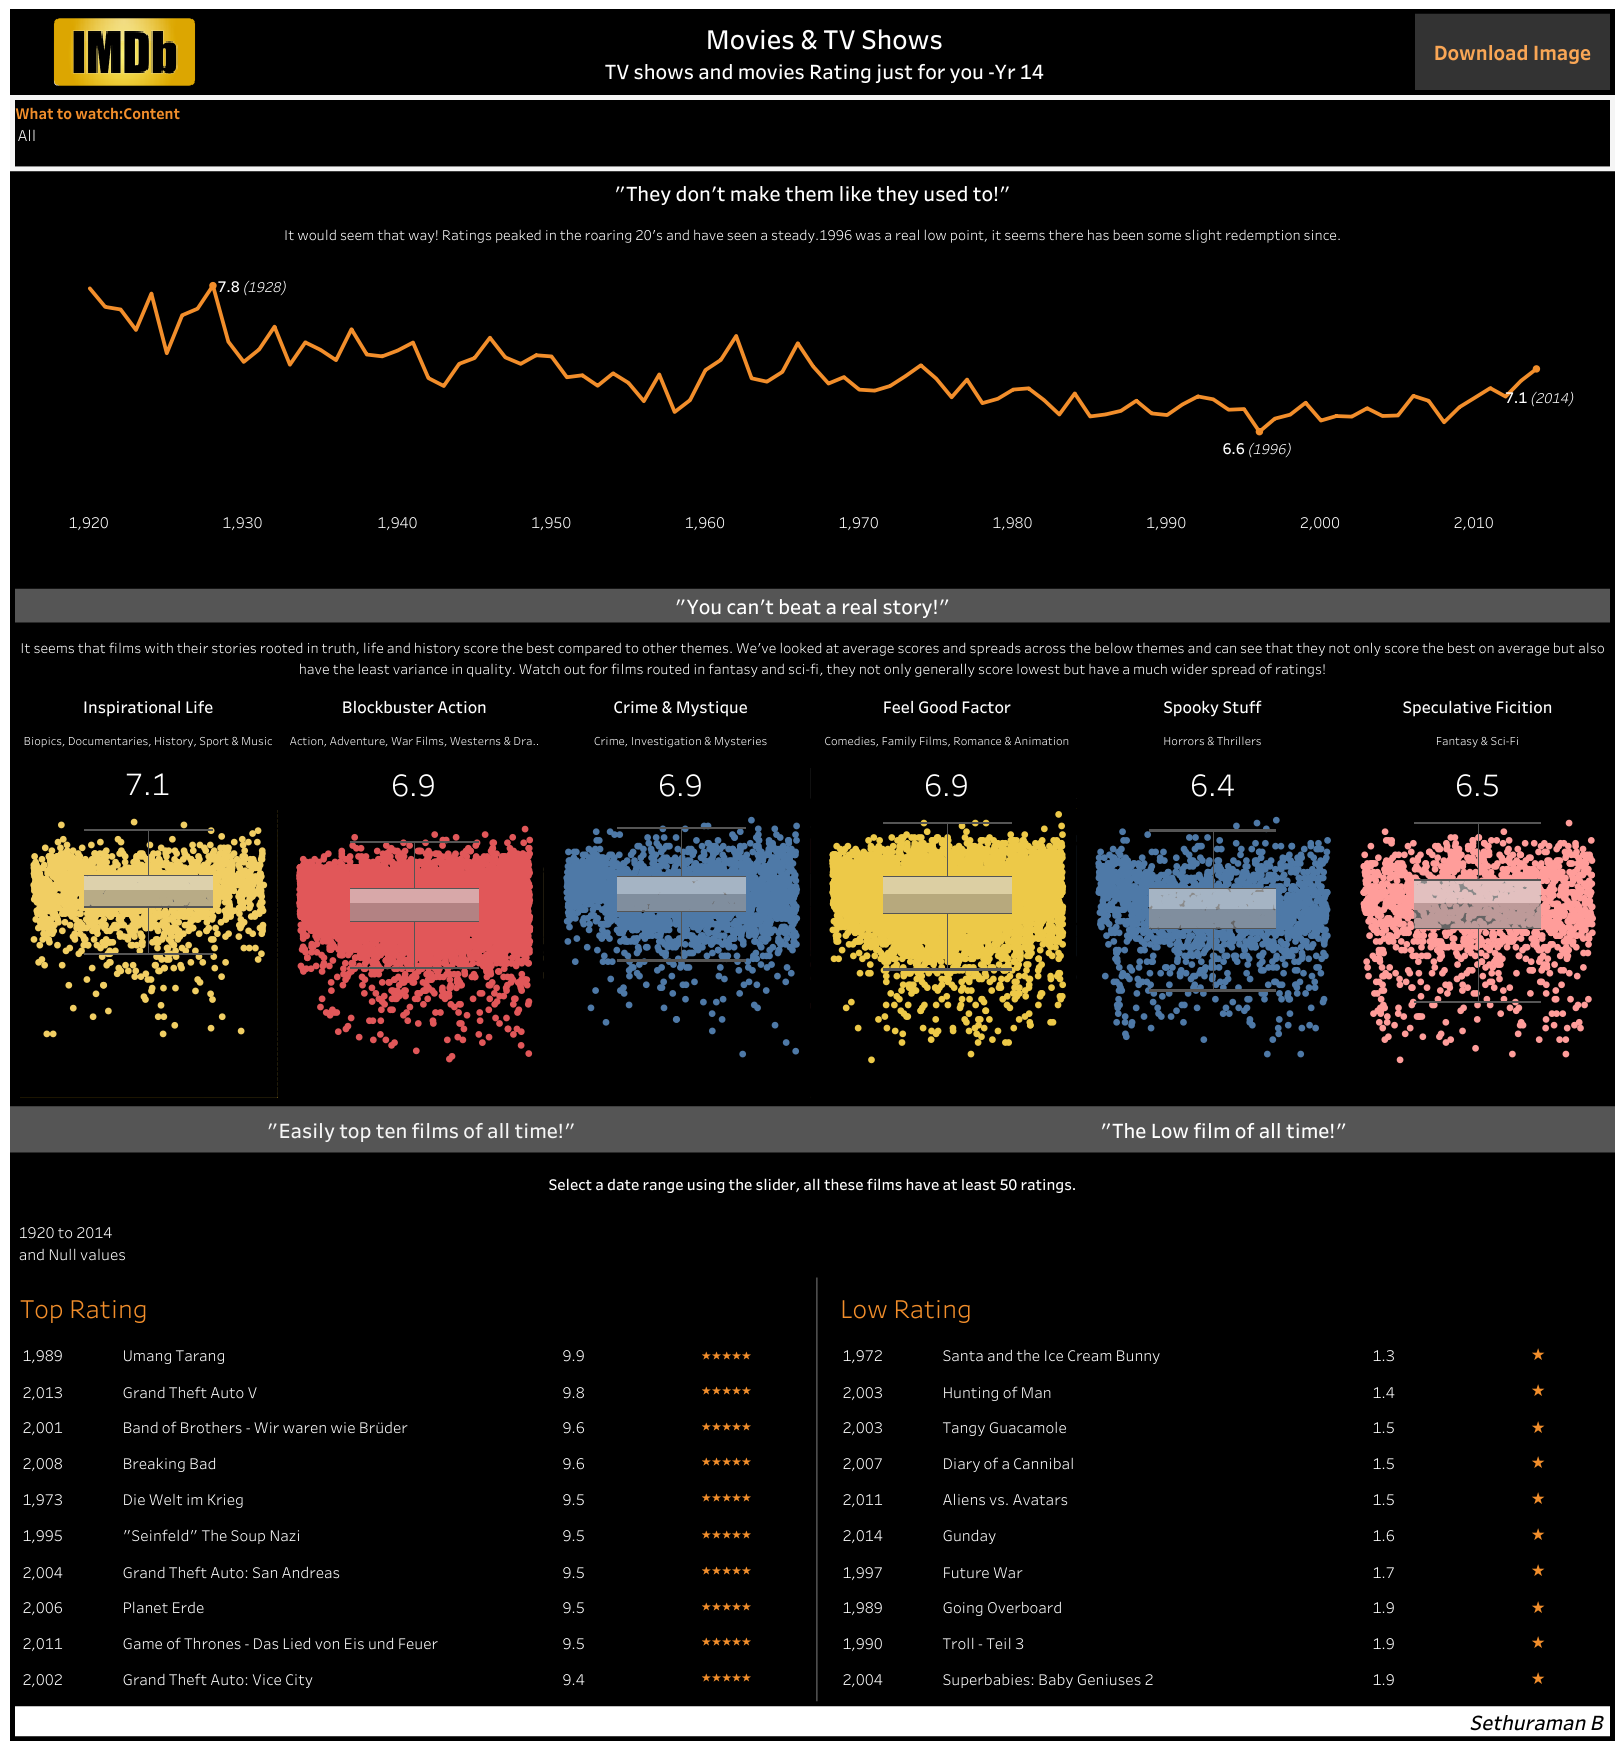

The page's visual inventory and layout, read from the dashboard file:
{"tool":"tableau","page":{"name":"Dashboard","canvas":[1300,1400],"ordinal":0},"visuals":[{"type":"image","param":"Image/imdb-logo.png","box":[8,7,183,69]},{"type":"text","box":[191,7,937,69]},{"type":"dashboard-object","box":[1128,7,164,69]},{"type":"filter","title":"Over Time","param":"[federated.14471671s8h7x11cjdxfd0hvwhka].[none:Type (copy)_1684346304384864259:n","box":[8,76,1284,61]},{"type":"text","box":[8,137,1284,34]},{"type":"text","box":[8,171,1284,32]},{"type":"worksheet","title":"Over Time","mark":"Line","rows":["imdbRating"],"cols":["year"],"box":[8,203,1284,232]},{"type":"blank","box":[8,435,1284,32]},{"type":"text","box":[8,467,1284,35]},{"type":"text","box":[8,502,1284,47]},{"type":"text","box":[12,553,213,22]},{"type":"text","box":[225,553,213,22]},{"type":"text","box":[438,553,213,22]},{"type":"text","box":[651,553,213,22]},{"type":"text","box":[864,553,212,22]},{"type":"text","box":[1076,553,212,22]},{"type":"text","box":[12,575,213,34.5]},{"type":"text","box":[225,575,213,34.9]},{"type":"text","box":[438,575,213,34.9]},{"type":"text","box":[651,575,213,34.9]},{"type":"text","box":[864,575,212,34.9]},{"type":"text","box":[1076,575,212,34.9]},{"type":"worksheet","title":"Factual Average","mark":"Text","box":[12,609.5,213,34.5]},{"type":"worksheet","title":"BlockBuster Average","mark":"Text","box":[225,609.9,213,32]},{"type":"worksheet","title":"Crime_Mystery Average","mark":"Text","box":[438,609.9,213,32]},{"type":"worksheet","title":"Feel Good Average","mark":"Text","box":[651,609.9,213,32]},{"type":"worksheet","title":"Thriller Average","mark":"Text","box":[864,609.9,212,32]},{"type":"worksheet","title":"SciFi_Fantasy Average","mark":"Text","box":[1076,609.9,212,32]},{"type":"worksheet","title":"Crime_Mystery Box","mark":"Line","rows":["imdbRating"],"box":[438,641.9,213,239.1]},{"type":"worksheet","title":"Feel Good Plot","mark":"Line","rows":["imdbRating"],"box":[651,641.9,213,239.1]},{"type":"worksheet","title":"Thriller Box","mark":"Line","rows":["imdbRating"],"box":[864,641.9,212,239.1]},{"type":"worksheet","title":"Fantasy Plot","mark":"Line","rows":["imdbRating"],"box":[1076,641.9,212,239.1]},{"type":"worksheet","title":"Factual Box","mark":"Line","rows":["imdbRating"],"box":[12,643.9,213,237.1]},{"type":"worksheet","title":"BlockBuster Plot","mark":"Line","rows":["imdbRating"],"box":[225,654.2,213,226.8]},{"type":"text","box":[8,885,658,37]},{"type":"text","box":[666,885,626,37]},{"type":"text","box":[8,922,1284,50]},{"type":"filter","title":"Top Rating","param":"[federated.14471671s8h7x11cjdxfd0hvwhka].[none:Year (copy):qk]","box":[8,972,1284,50]},{"type":"worksheet","title":"Top Rating","mark":"Shape","rows":["Calculation_1858016389975830530","year","Calculation_3082713945223172097","imdbRating"],"box":[8,1022,635.5,339]},{"type":"blank","box":[643.5,1022,10,339]},{"type":"blank","box":[654.5,1022,10,339]},{"type":"worksheet","title":"Low Rating","mark":"Shape","rows":["Calculation_1858016389975830530","year","Calculation_3082713945223172097","imdbRating"],"box":[664.5,1022,627.5,339]},{"type":"text","box":[8,1361,1284,32]}]}

Visuals, with their boxes in screenshot pixels (x1, y1, x2, y2), scaled from the page's 1300x1400 canvas onto the 1624x1749 screenshot:
image: detection(10, 9, 239, 95)
text: detection(239, 9, 1409, 95)
dashboard-object: detection(1409, 9, 1614, 95)
"Over Time" filter: detection(10, 95, 1614, 171)
text: detection(10, 171, 1614, 214)
text: detection(10, 214, 1614, 254)
"Over Time" worksheet (Line marks): detection(10, 254, 1614, 543)
blank: detection(10, 543, 1614, 583)
text: detection(10, 583, 1614, 627)
text: detection(10, 627, 1614, 686)
text: detection(15, 691, 281, 718)
text: detection(281, 691, 547, 718)
text: detection(547, 691, 813, 718)
text: detection(813, 691, 1079, 718)
text: detection(1079, 691, 1344, 718)
text: detection(1344, 691, 1609, 718)
text: detection(15, 718, 281, 761)
text: detection(281, 718, 547, 762)
text: detection(547, 718, 813, 762)
text: detection(813, 718, 1079, 762)
text: detection(1079, 718, 1344, 762)
text: detection(1344, 718, 1609, 762)
"Factual Average" worksheet (Text marks): detection(15, 761, 281, 805)
"BlockBuster Average" worksheet (Text marks): detection(281, 762, 547, 802)
"Crime_Mystery Average" worksheet (Text marks): detection(547, 762, 813, 802)
"Feel Good Average" worksheet (Text marks): detection(813, 762, 1079, 802)
"Thriller Average" worksheet (Text marks): detection(1079, 762, 1344, 802)
"SciFi_Fantasy Average" worksheet (Text marks): detection(1344, 762, 1609, 802)
"Crime_Mystery Box" worksheet (Line marks): detection(547, 802, 813, 1101)
"Feel Good Plot" worksheet (Line marks): detection(813, 802, 1079, 1101)
"Thriller Box" worksheet (Line marks): detection(1079, 802, 1344, 1101)
"Fantasy Plot" worksheet (Line marks): detection(1344, 802, 1609, 1101)
"Factual Box" worksheet (Line marks): detection(15, 804, 281, 1101)
"BlockBuster Plot" worksheet (Line marks): detection(281, 817, 547, 1101)
text: detection(10, 1106, 832, 1152)
text: detection(832, 1106, 1614, 1152)
text: detection(10, 1152, 1614, 1214)
"Top Rating" filter: detection(10, 1214, 1614, 1277)
"Top Rating" worksheet (Shape marks): detection(10, 1277, 804, 1700)
blank: detection(804, 1277, 816, 1700)
blank: detection(818, 1277, 830, 1700)
"Low Rating" worksheet (Shape marks): detection(830, 1277, 1614, 1700)
text: detection(10, 1700, 1614, 1740)
